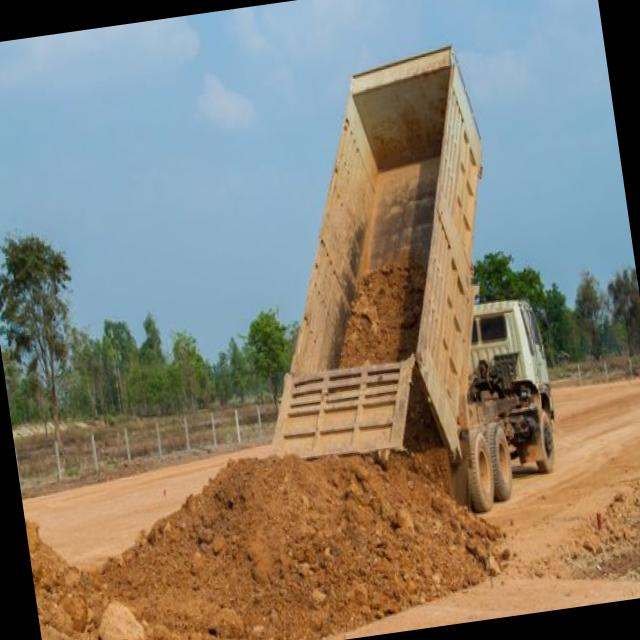red-sand: (25, 455, 500, 640)
white-sand: (324, 381, 640, 640), (22, 447, 269, 566)
